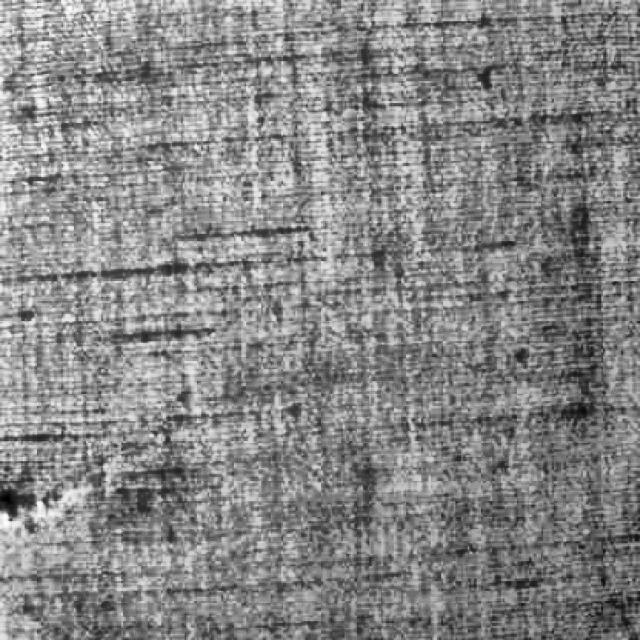thread_error: (0, 455, 108, 543)
